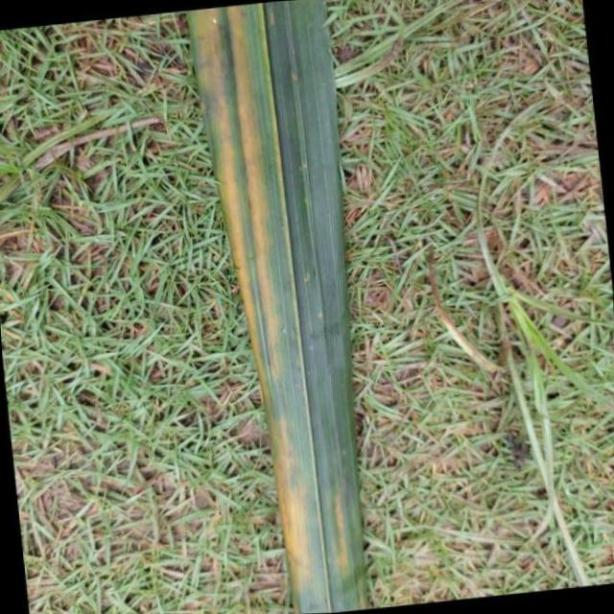Megnesium: (184, 0, 366, 614)
